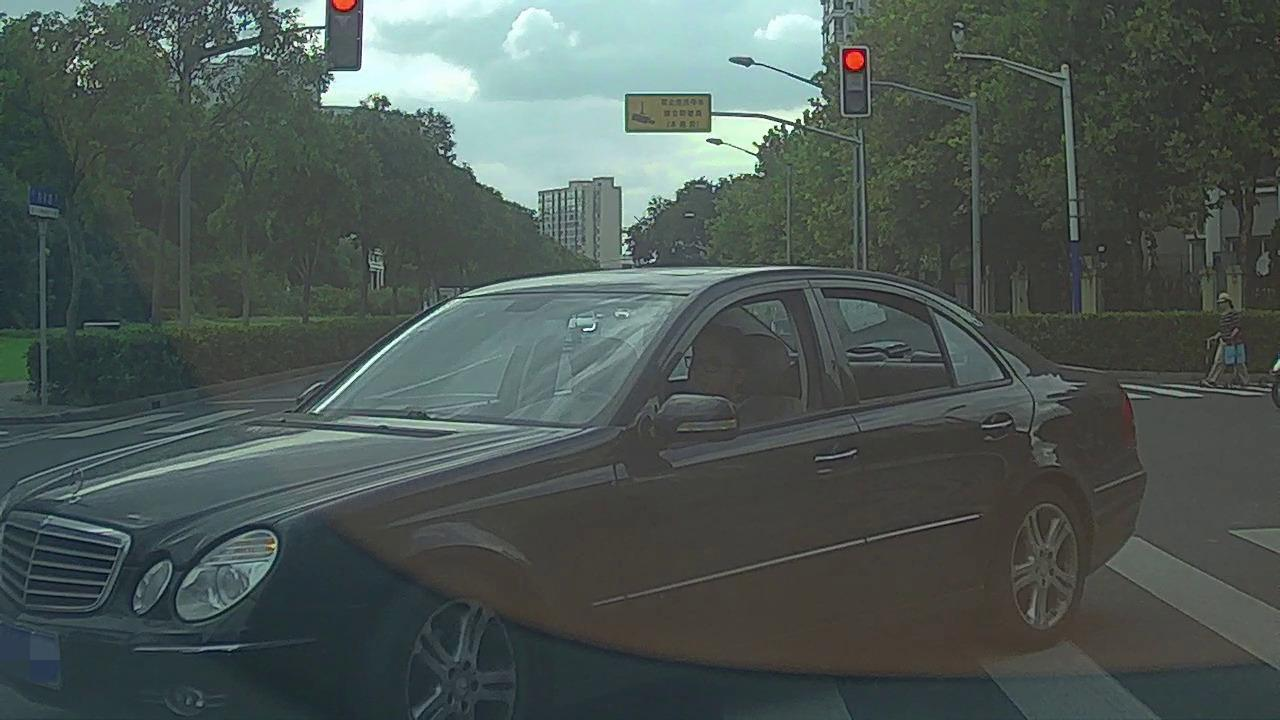traffic_light: (328, 1, 359, 69), (841, 47, 869, 116)
